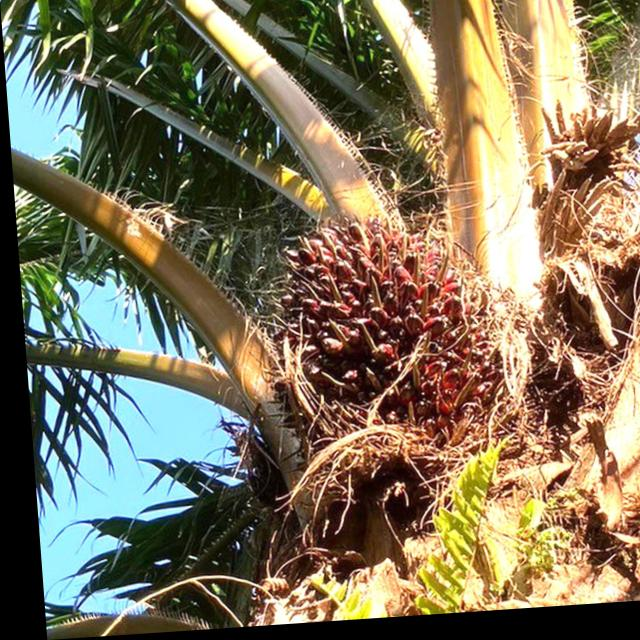ripe: (273, 218, 473, 448)
